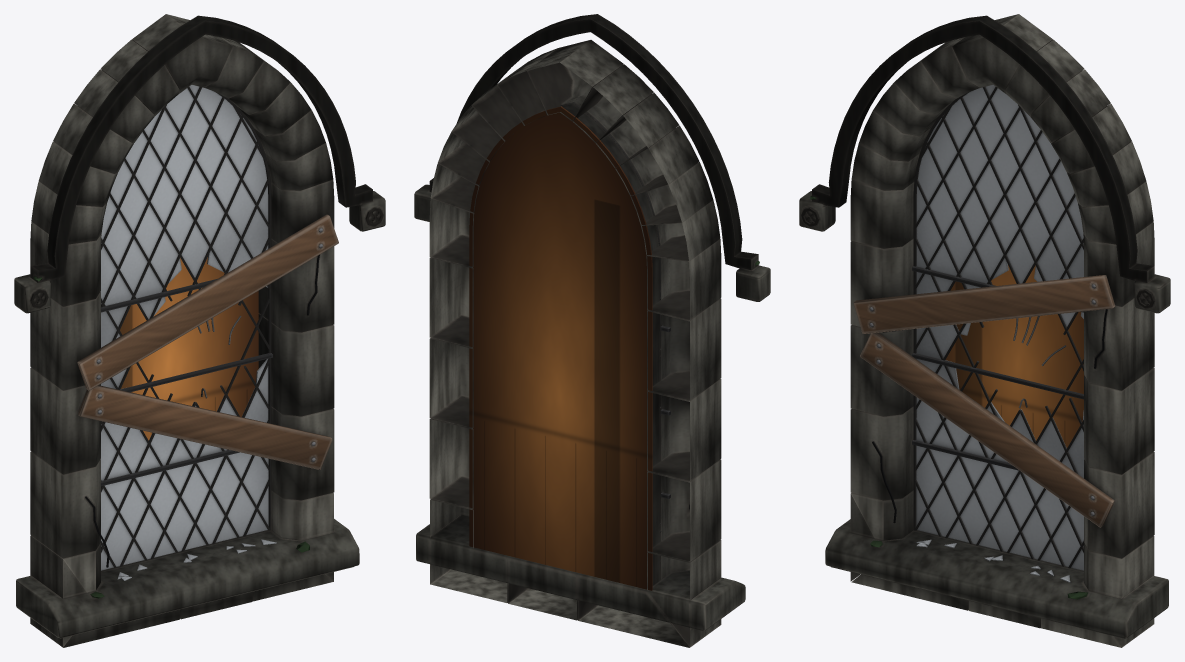
File: BrokenWindow.fbx
The picture shows the model from 3 angles, left to right: view 1: azimuth 30°, elevation 25°; view 2: azimuth 150°, elevation 25°; view 3: azimuth 330°, elevation 25°; orthographic projection. The views are drawn at different scales.
Parts seen in each view (by area): view 1: BrokenWindow_Main, BrokenWindow_Glass, BrokenWindow_Room; view 2: BrokenWindow_Main, BrokenWindow_Room; view 3: BrokenWindow_Main, BrokenWindow_Glass, BrokenWindow_Room.
Part boxes in pixels (x1,y1,x2,y2): BrokenWindow_Main: (14, 14, 385, 647); BrokenWindow_Glass: (100, 85, 276, 580); BrokenWindow_Room: (120, 257, 259, 440); BrokenWindow_Main: (414, 14, 770, 647); BrokenWindow_Room: (469, 106, 652, 590); BrokenWindow_Main: (799, 14, 1170, 647); BrokenWindow_Glass: (916, 85, 1084, 582); BrokenWindow_Room: (945, 265, 1084, 447).
Bounding box in the file's own units: 478 × 758 × 103.
